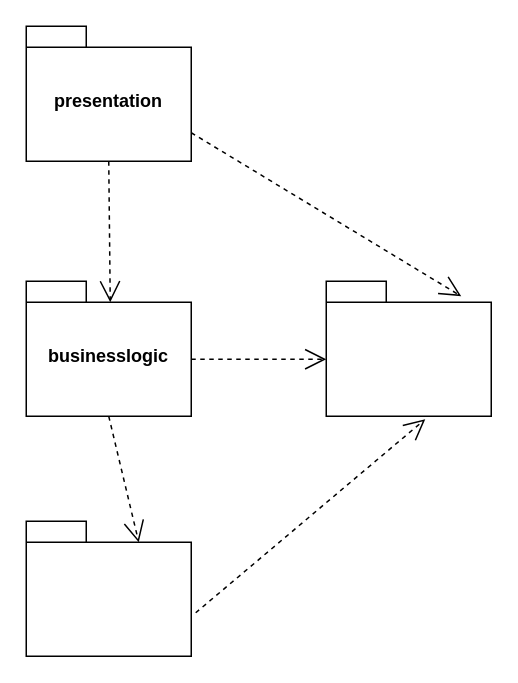
This 518x683 diagram has some shape labels left out. Here are the shapes that lost their labels. From the top down, the centre of each, then its label:
At [408,348]: "model".
At [108,588]: "dataaccess".
